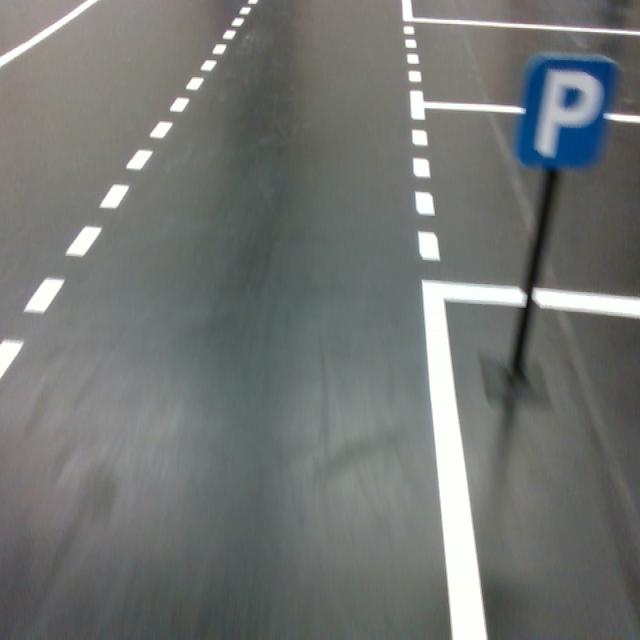parking-sign: (512, 51, 622, 173)
